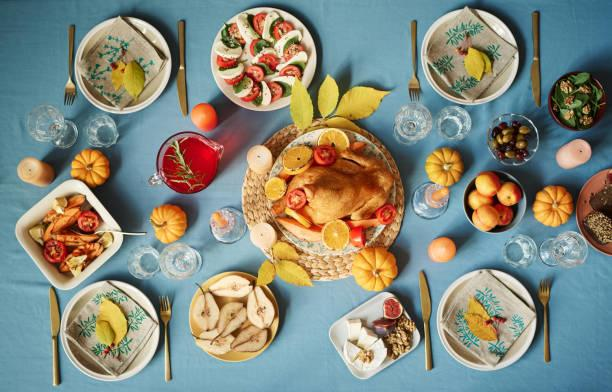Braised Crucian Carp: (264, 126, 393, 254), (14, 180, 123, 290), (209, 5, 315, 111), (436, 269, 538, 372), (58, 279, 159, 381), (420, 6, 519, 107), (73, 15, 169, 114), (188, 271, 278, 363), (328, 291, 420, 380)
